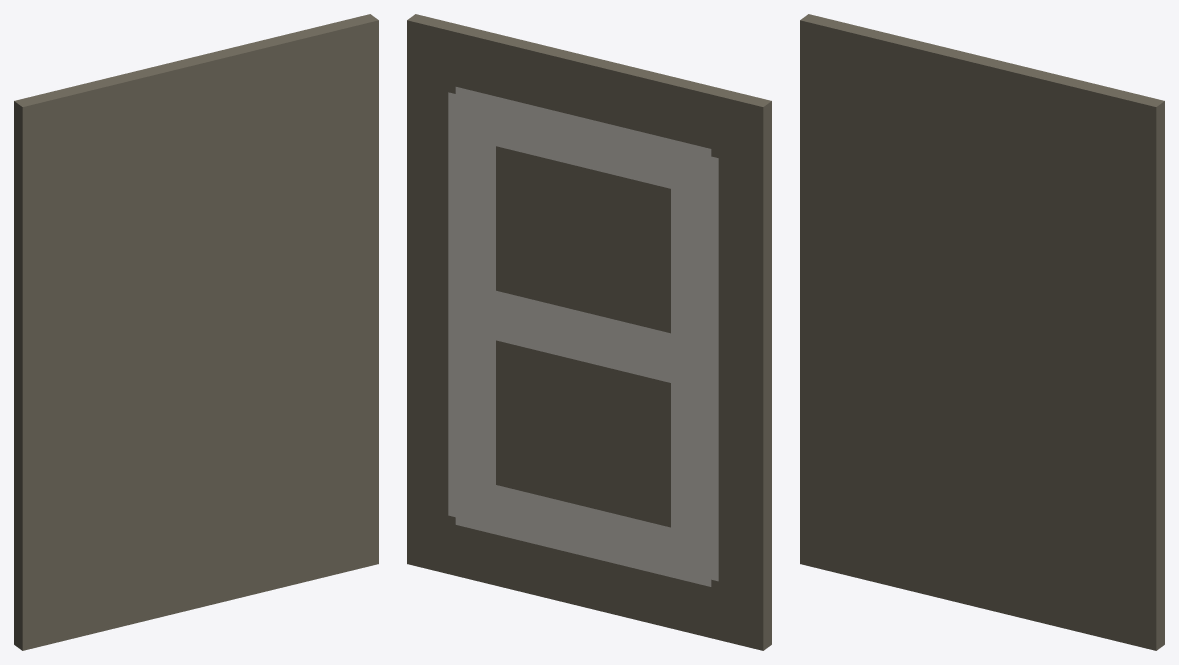
File: stair_digit_8.glb
The picture shows the model from 3 angles, left to right: view 1: azimuth 30°, elevation 25°; view 2: azimuth 150°, elevation 25°; view 3: azimuth 330°, elevation 25°; orthographic projection.
Visible parts, largest first — view 1: stair_digit_8; view 2: stair_digit_8; view 3: stair_digit_8.
Part boxes in pixels (left/top/right/bottom): stair_digit_8: left=14, top=14, right=378, bottom=650; stair_digit_8: left=407, top=14, right=771, bottom=650; stair_digit_8: left=800, top=14, right=1164, bottom=650.
Bounding box in the file's own units: 0.24 × 0.35 × 0.012.
2 materials, 2 textured.
